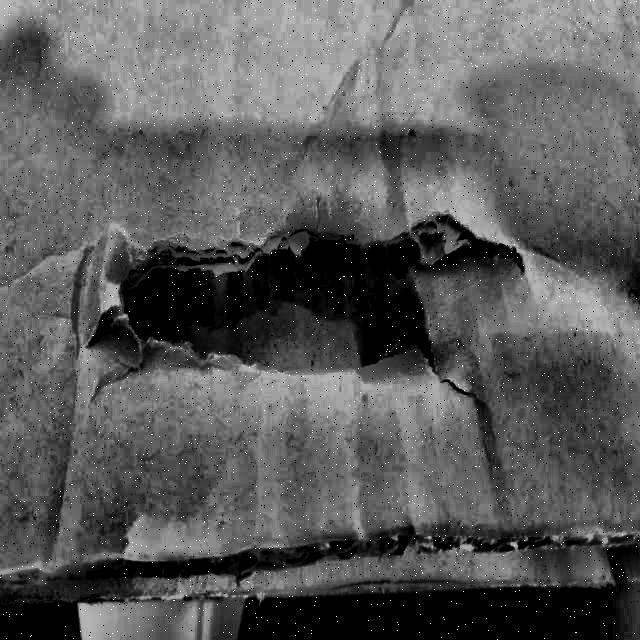box: (1, 1, 640, 606)
hole: (87, 176, 521, 383)
